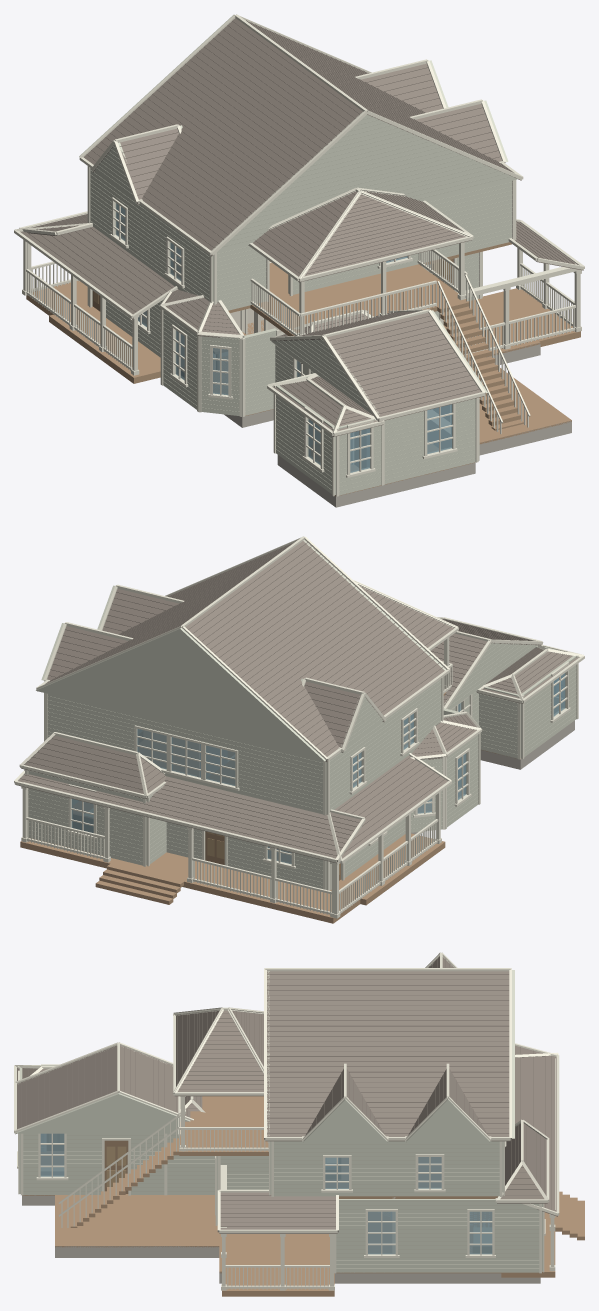
Rendered from ranch-base.glb.
3 renders of one model, top to bottom at view 1: azimuth 30°, elevation 25°; view 2: azimuth 150°, elevation 25°; view 3: azimuth 270°, elevation 25°, orthographic. The views are drawn at different scales.
Bounding box in the file's own units: 15.44 × 9.97 × 20.85.
